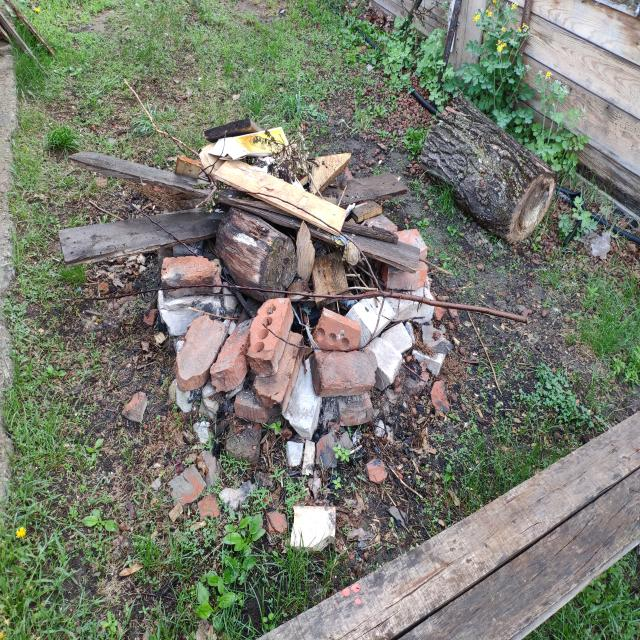entulho: (245, 481, 640, 638), (157, 136, 439, 304), (431, 410, 640, 628), (158, 298, 322, 426), (425, 100, 558, 246), (61, 203, 226, 266), (72, 147, 215, 200), (306, 350, 384, 390), (311, 307, 372, 355)
